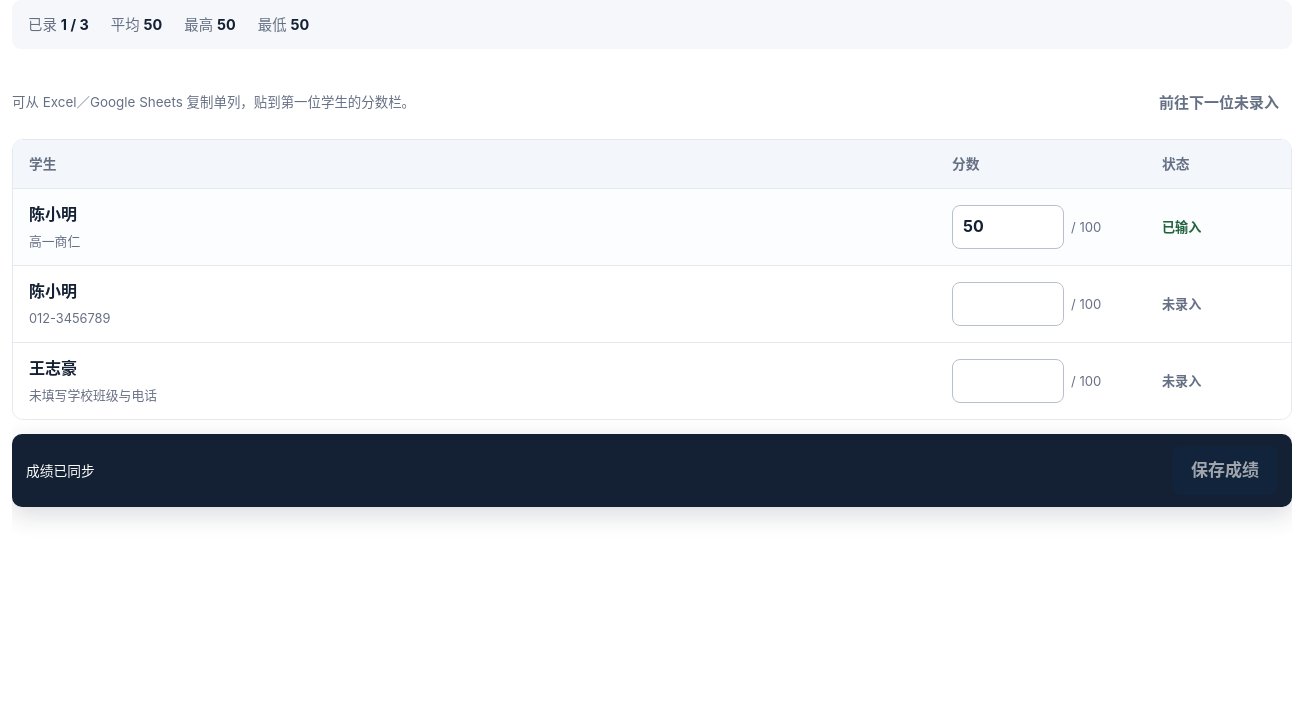
Scenario: GradeEntryTable › keeps native Tab order, supports Shift+Tab and preserves edits after save failure
This screenshot has width=1304, height=720.
Replace the text in the number field labelled "/ 100" in the row of "高一商仁" with "0". click: (1008, 227)
box: [952,205,1064,249]
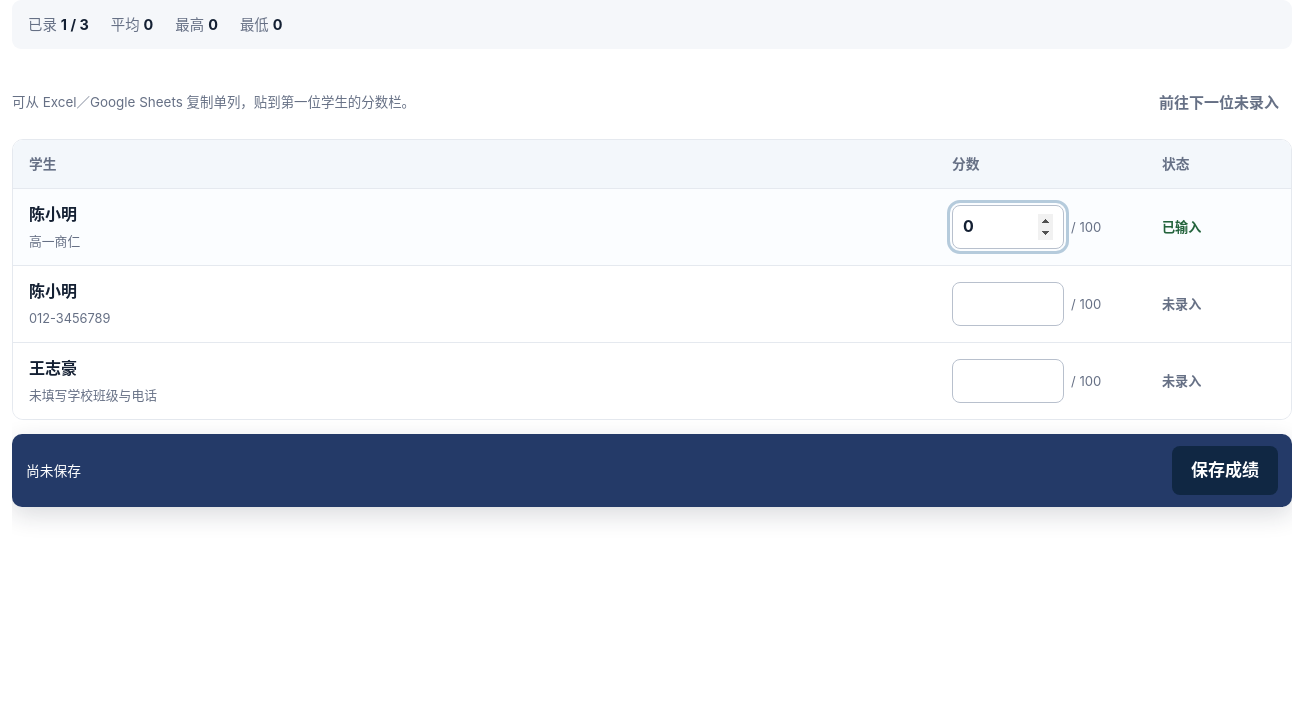
Press Tab
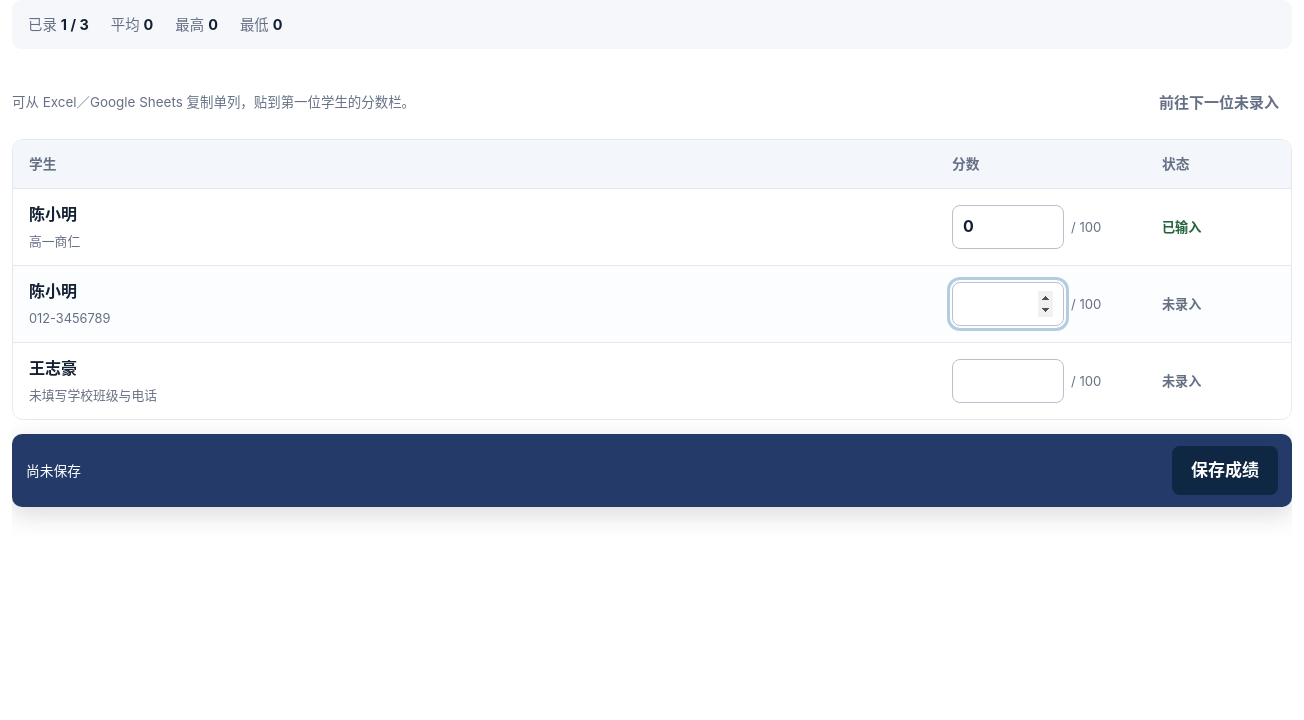
Press Shift+Tab
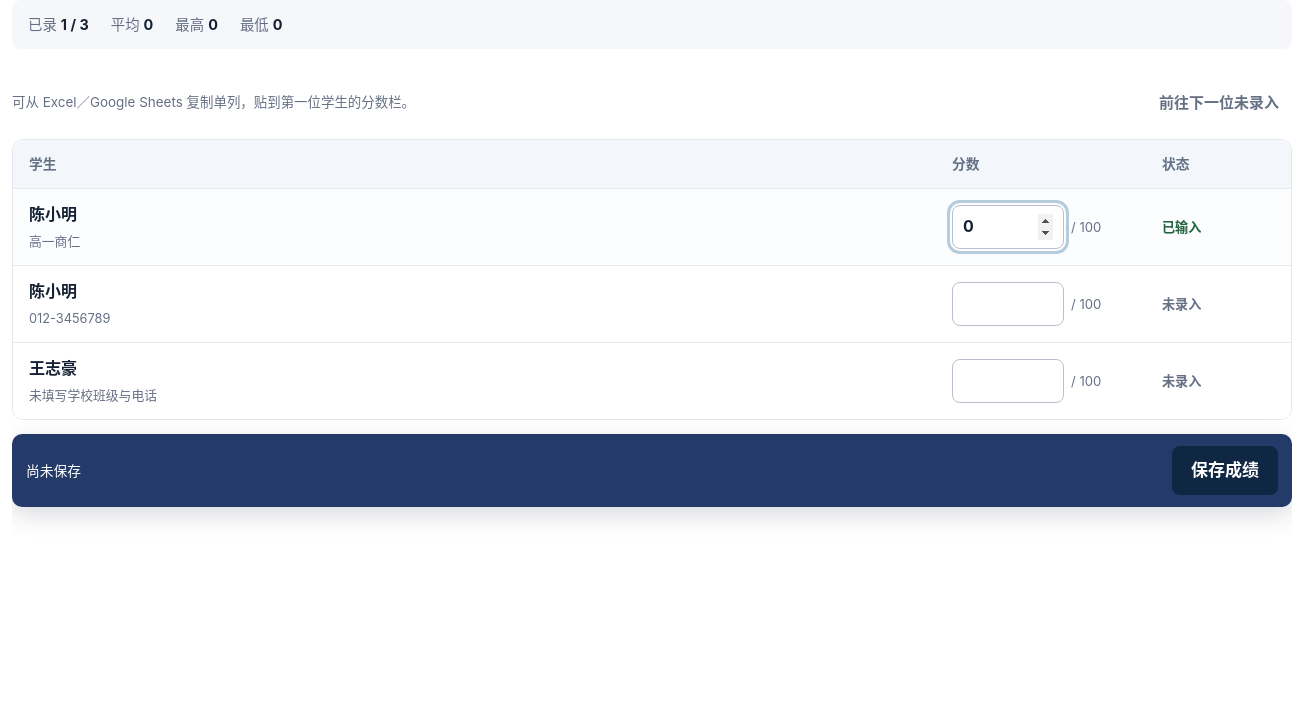
Click the button "保存成绩". click: (1225, 471)
box: [1172,446,1278,496]
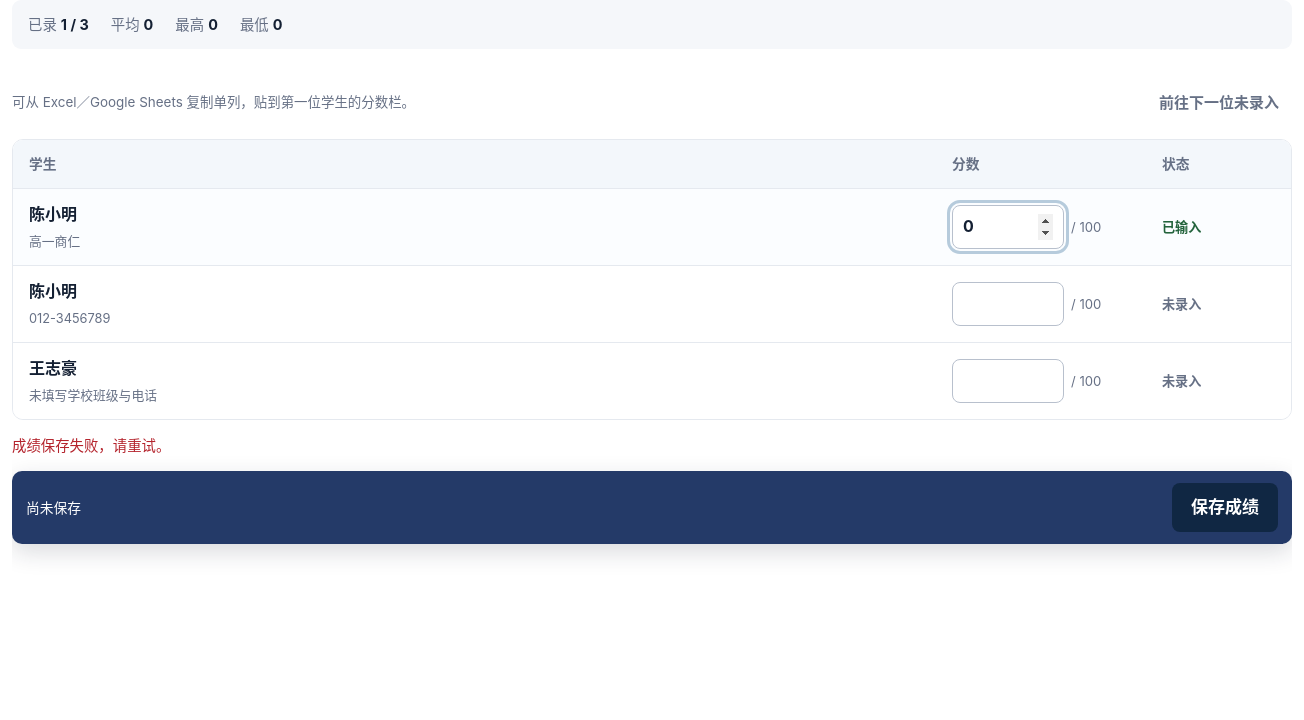
Check: the text "尚未保存" is shown, box [26,497,81,519]
Check: the message reads "成绩保存失败，请重试。", box [12,437,170,454]
